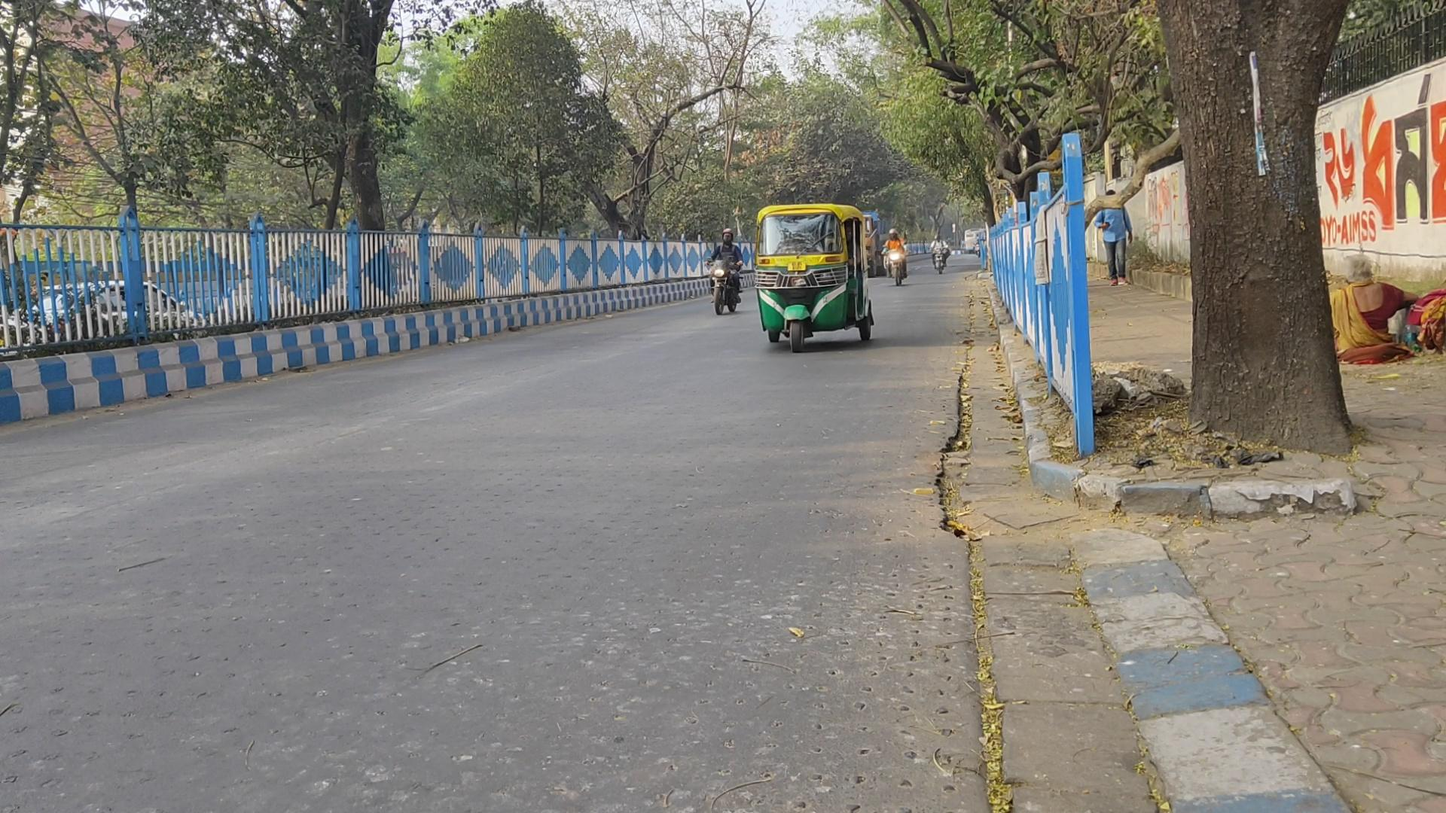Auto: (755, 203, 876, 354)
bike: (708, 227, 745, 315), (883, 227, 908, 286), (928, 232, 951, 274)
